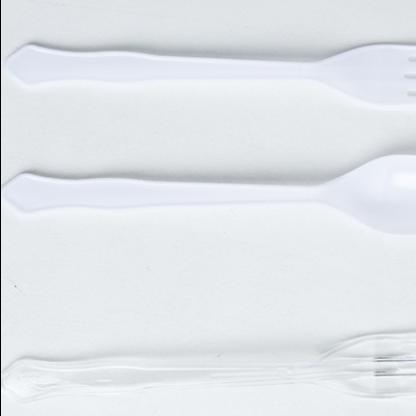Others: (1, 43, 415, 233)
